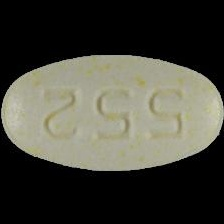64725-0552: (0, 0, 224, 224)
